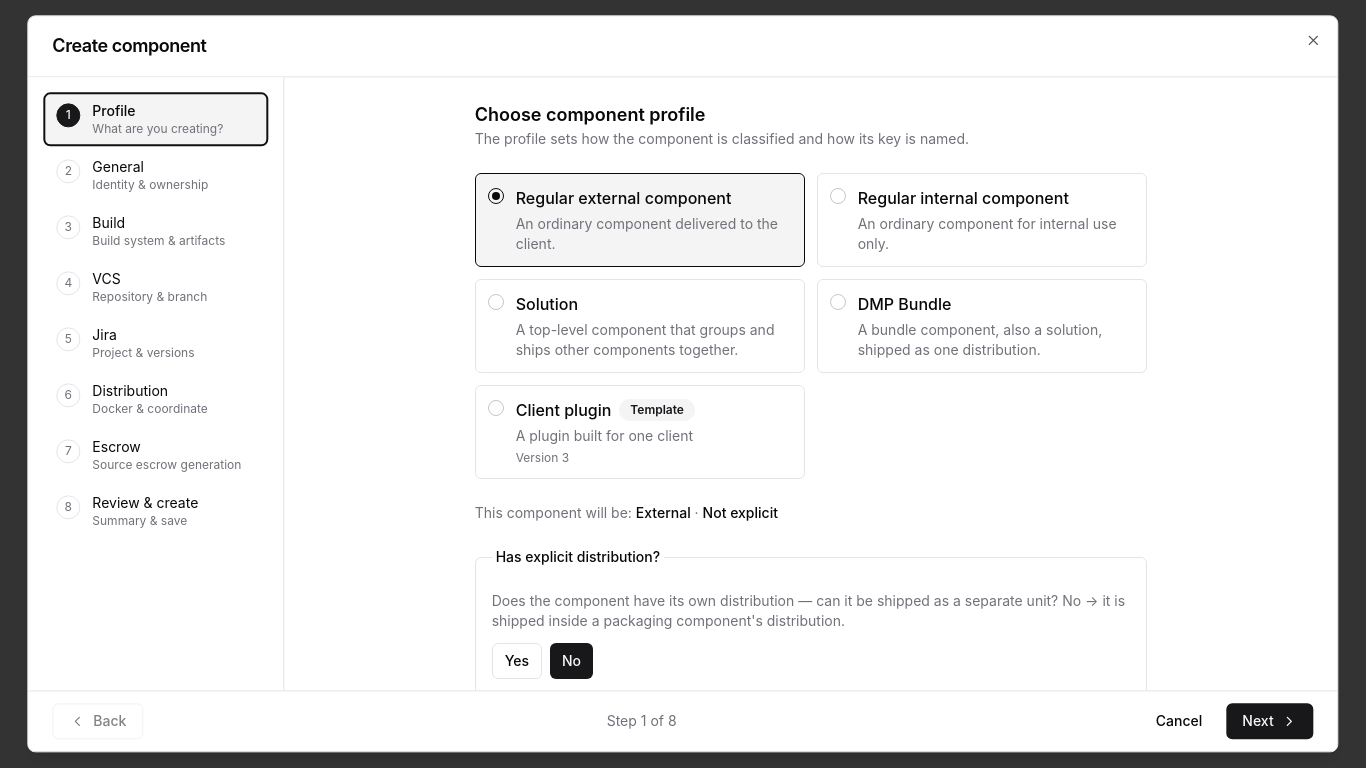
Test: Create component — Parameters › keeps Next disabled while a parameter check fails, and sends nothing while typing
Click the radio button labelled "Client plugin": (640, 432) x1=475 y1=385 x2=805 y2=479
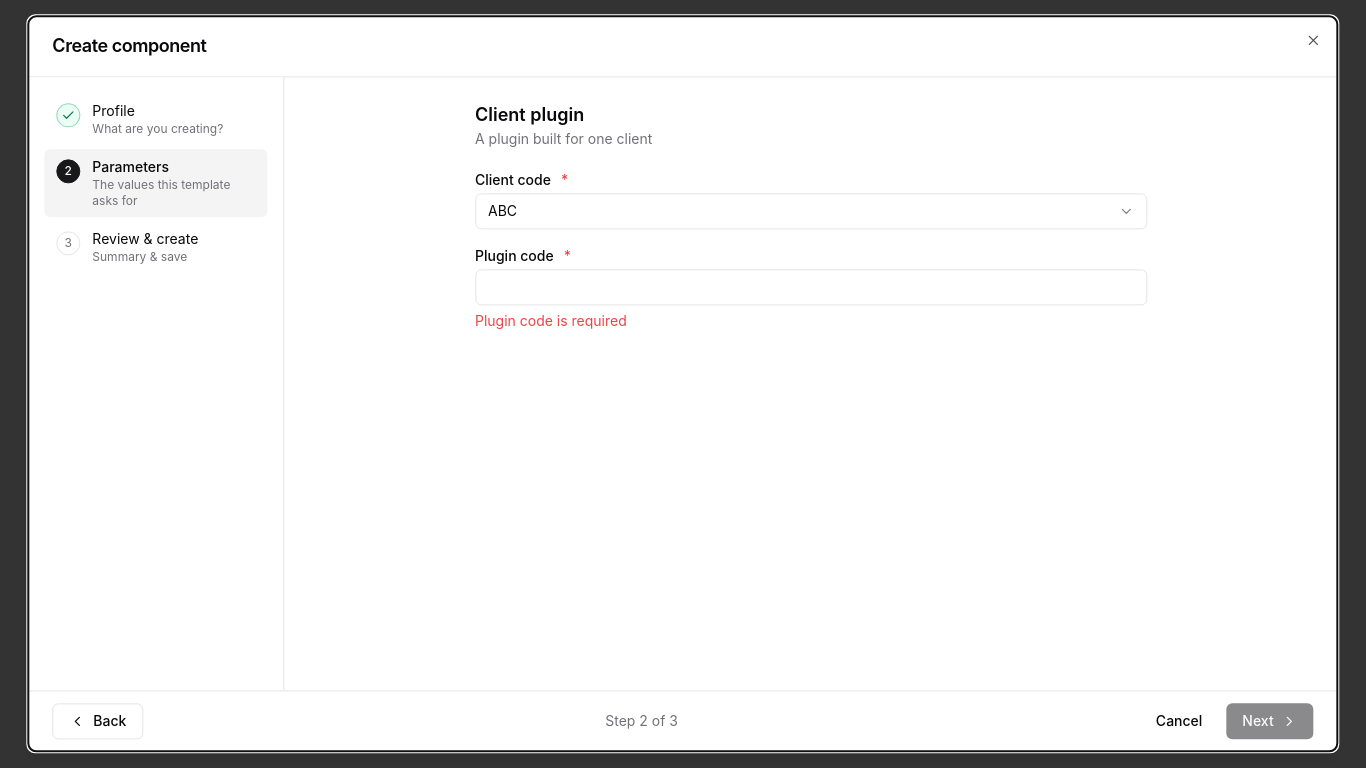
Check: the text "Plugin code" is shown, box x1=475 y1=247 x2=554 y2=264
Check: the button "Next" is disabled, box x1=1226 y1=704 x2=1314 y2=740
In the field: (811, 287) x1=475 y1=269 x2=1147 y2=305, type "pay"
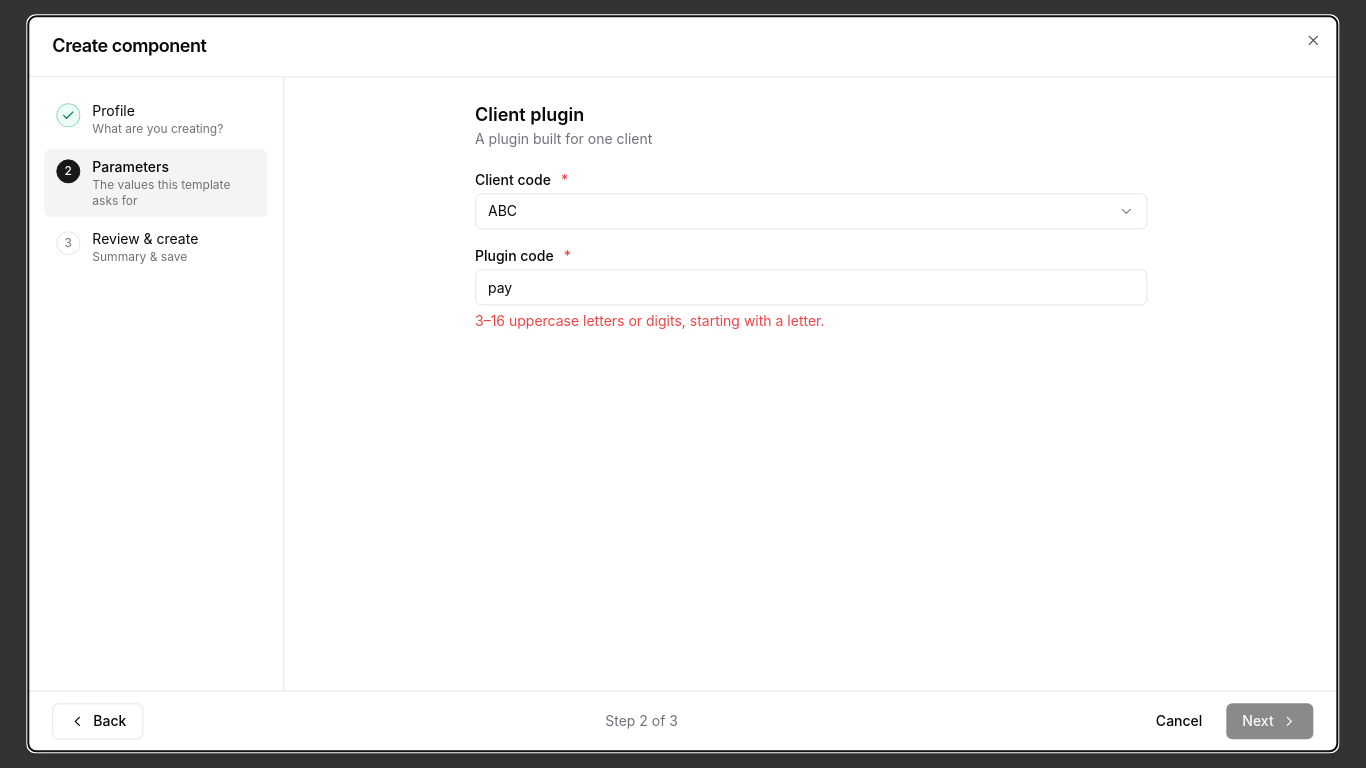
Check: the button "Next" is disabled, box x1=1226 y1=704 x2=1314 y2=740
Check: the text "3–16 uppercase letters or digits, starting with a letter." is shown, box x1=475 y1=312 x2=824 y2=329
Replace the text in the field with "PAY": (811, 287) x1=475 y1=269 x2=1147 y2=305
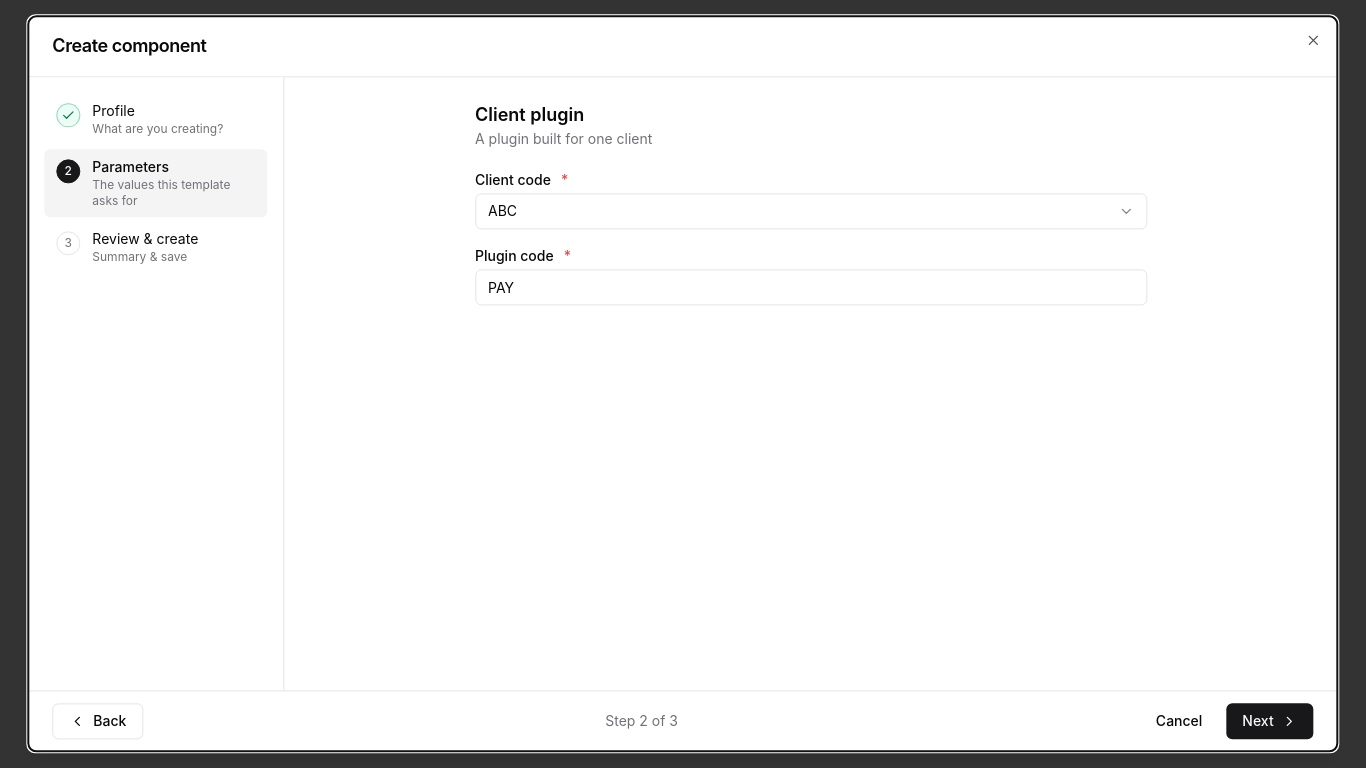
Check: the button "Next" is enabled, box x1=1226 y1=704 x2=1314 y2=740
